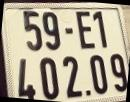-: (65, 28, 73, 34)
.: (86, 91, 91, 95)
0: (40, 58, 59, 99), (91, 56, 108, 93)
1: (95, 10, 107, 47)
2: (63, 56, 82, 97)
4: (17, 58, 35, 99)
5: (23, 11, 42, 50)
9: (43, 12, 60, 50), (111, 53, 127, 91)
E: (76, 11, 92, 48)
